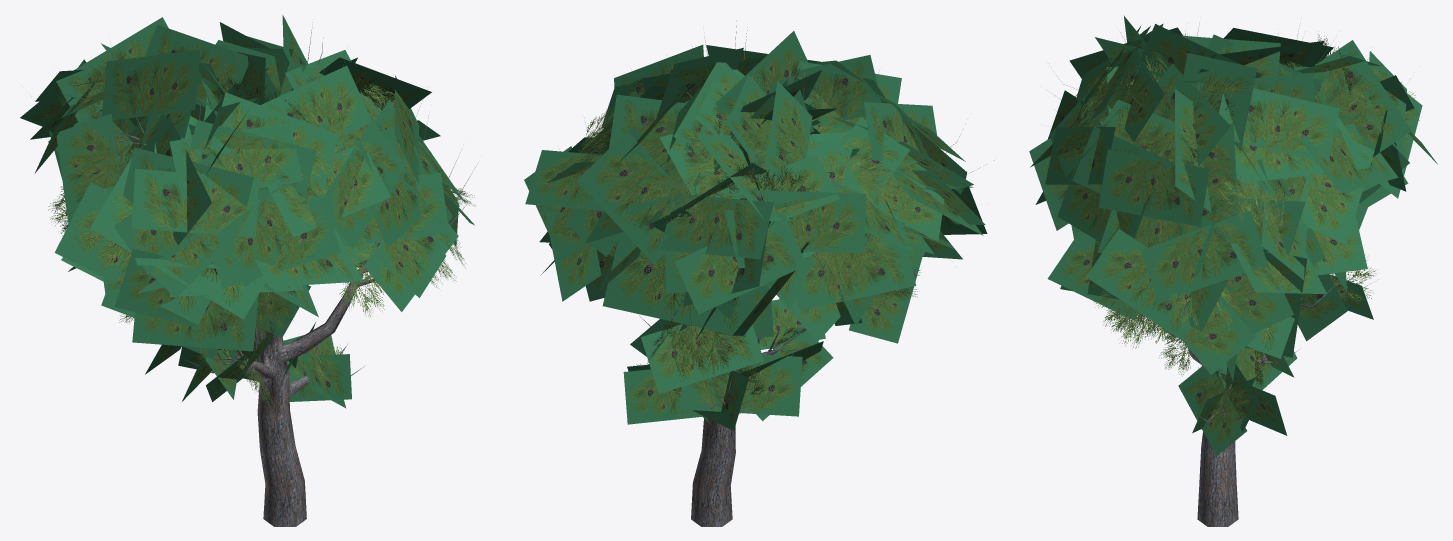
Rendered from Tree_Conifer_1.obj.
3 views of the same model, side by side, from view 1: azimuth 30°, elevation 25°; view 2: azimuth 150°, elevation 25°; view 3: azimuth 270°, elevation 25° (orthographic). The views are drawn at different scales.
Visible parts, largest first — view 1: Conifer_1_Branches, Conifer_1_Trunk; view 2: Conifer_1_Branches, Conifer_1_Trunk; view 3: Conifer_1_Branches, Conifer_1_Trunk.
Part boxes in pixels (box(x1,y1,x2,y2)): Conifer_1_Branches: box(20, 15, 474, 410); Conifer_1_Trunk: box(39, 22, 478, 526); Conifer_1_Branches: box(524, 31, 987, 430); Conifer_1_Trunk: box(588, 20, 994, 526); Conifer_1_Branches: box(1029, 16, 1437, 455); Conifer_1_Trunk: box(1054, 23, 1393, 526).
Size of the model in its own units: 0.936 by 1.01 by 0.7926.
4 materials, 4 textured.
